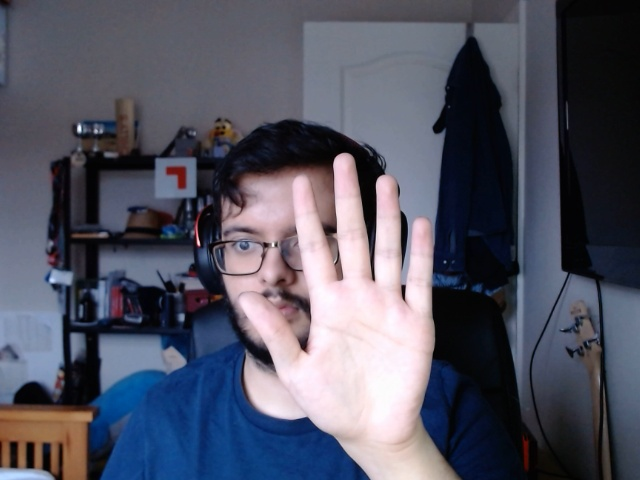Hello: (235, 146, 450, 453)
